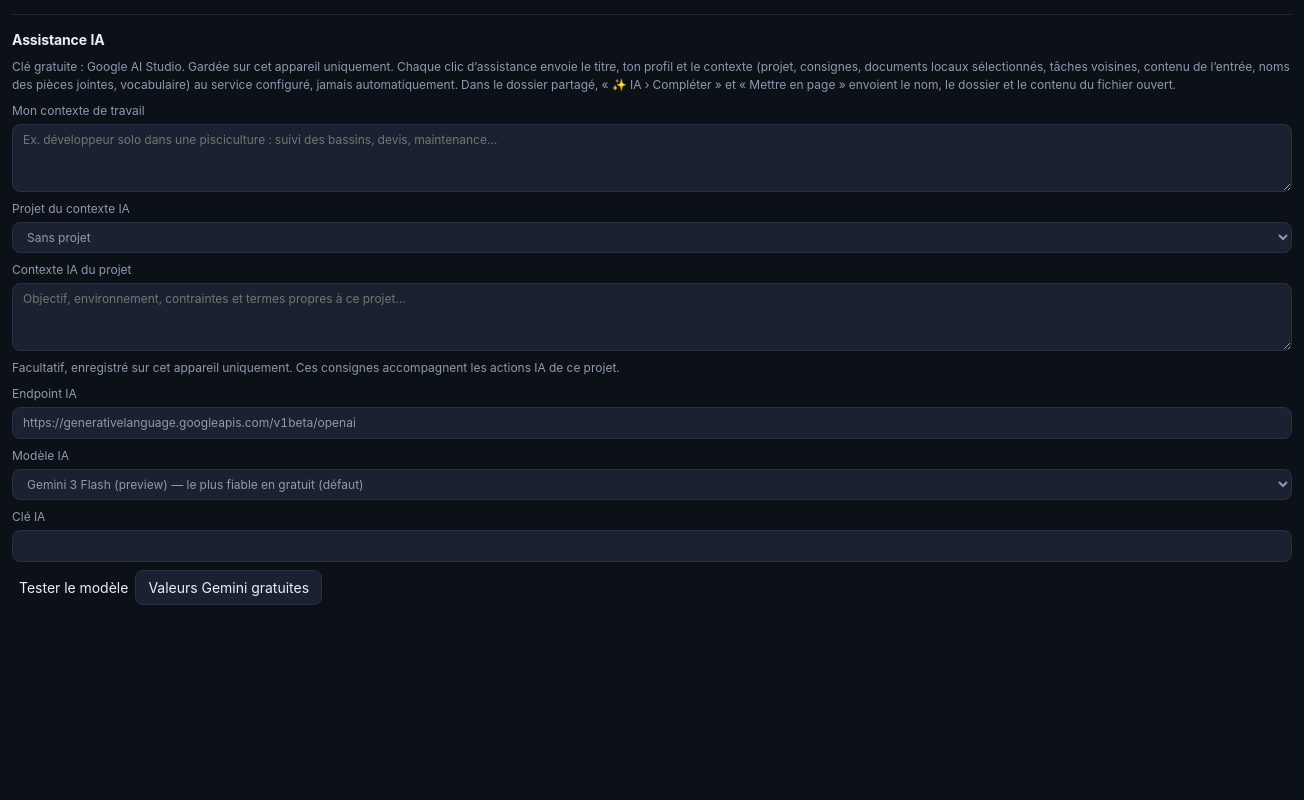
Test: réglages IA › « Tester le modèle » sans clé renvoie aux Paramètres sans appel réseau
Step 1. Click the button "Tester le modèle" → (74, 588), box [12,575,135,600]
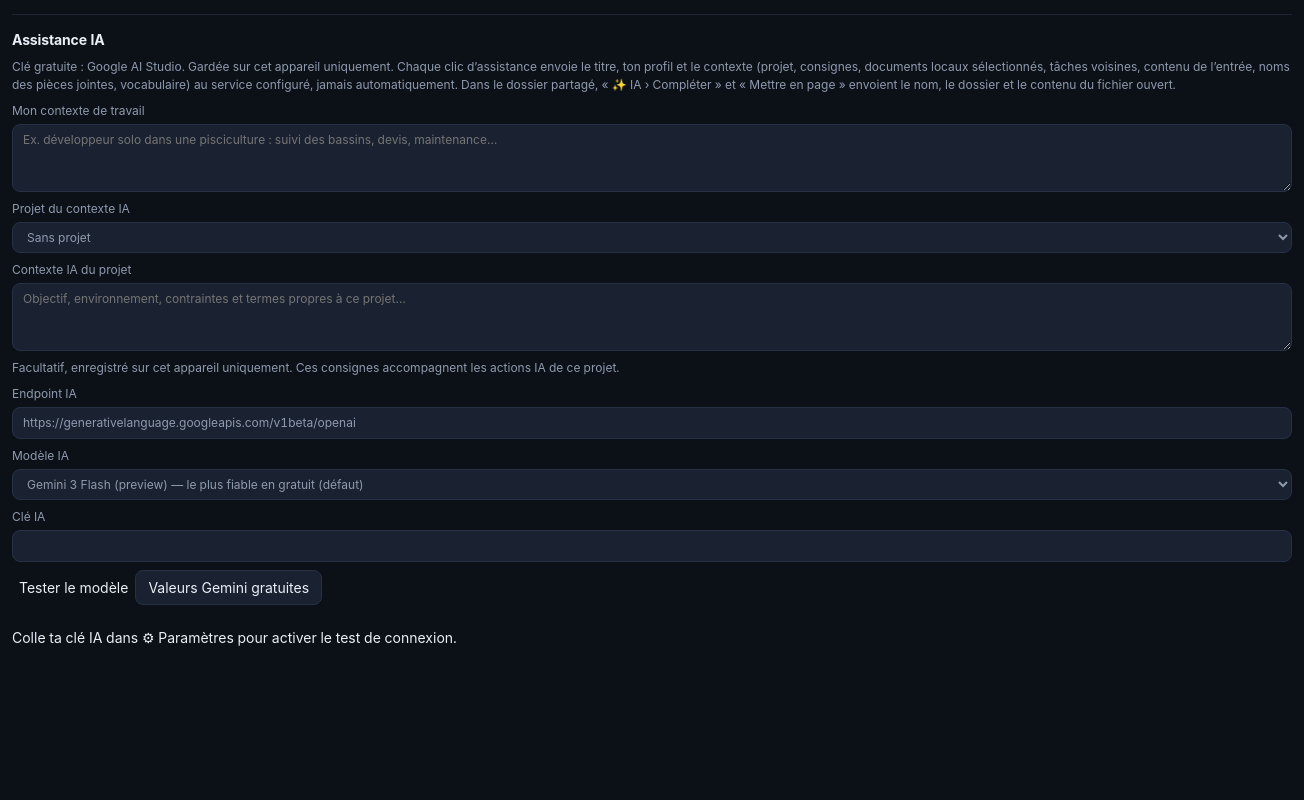
expect the message shows "Colle ta clé IA": met, box [12,629,457,646]
